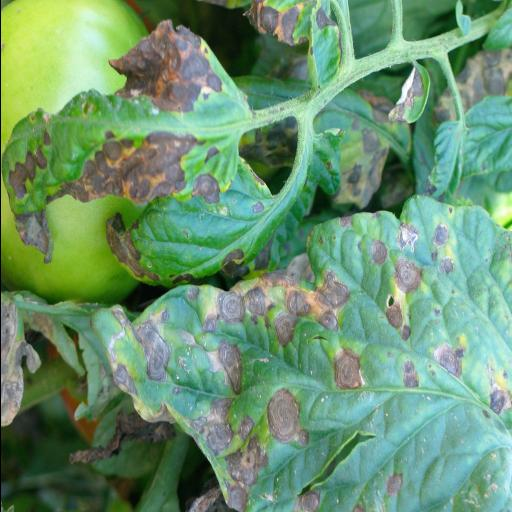Early Blight: (98, 192, 506, 494), (7, 28, 250, 200), (103, 159, 275, 282)
